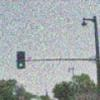traffic lights: (16, 50, 26, 70)
